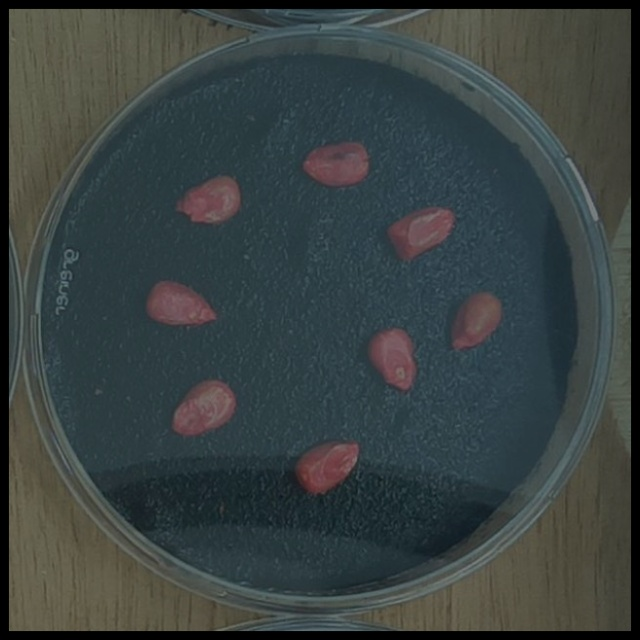Zea mays: (162, 370, 243, 441), (379, 198, 461, 265), (286, 430, 367, 497), (168, 167, 247, 231), (360, 320, 424, 399), (442, 284, 509, 357), (295, 132, 375, 193), (139, 272, 222, 330)
